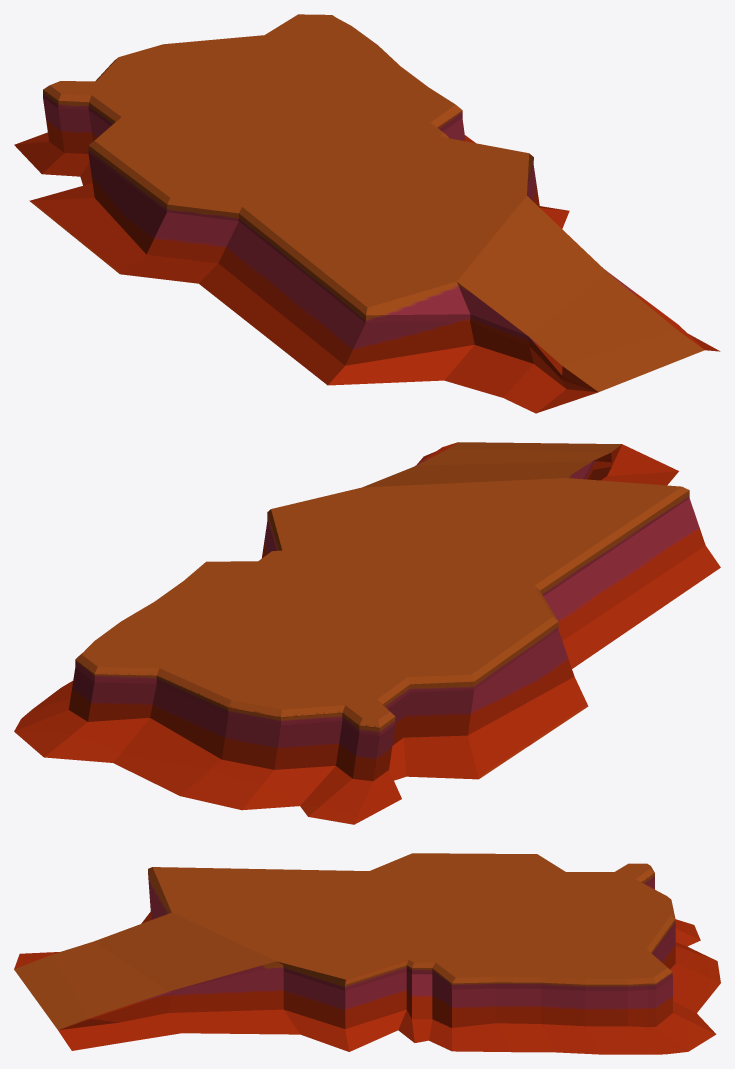
File: rampa_03.fbx
3 views of the same model, one above another, from view 1: azimuth 30°, elevation 25°; view 2: azimuth 150°, elevation 25°; view 3: azimuth 270°, elevation 25° (orthographic). The views are drawn at different scales.
Visible parts, largest first — view 1: Plane.002; view 2: Plane.002; view 3: Plane.002.
Boxes of the visible parts, x1=… form: Plane.002: x1=14, y1=14, x2=720, y2=413; Plane.002: x1=14, y1=442, x2=720, y2=824; Plane.002: x1=14, y1=853, x2=720, y2=1054.
Size of the model in its own units: 4221 by 804 by 7904.
